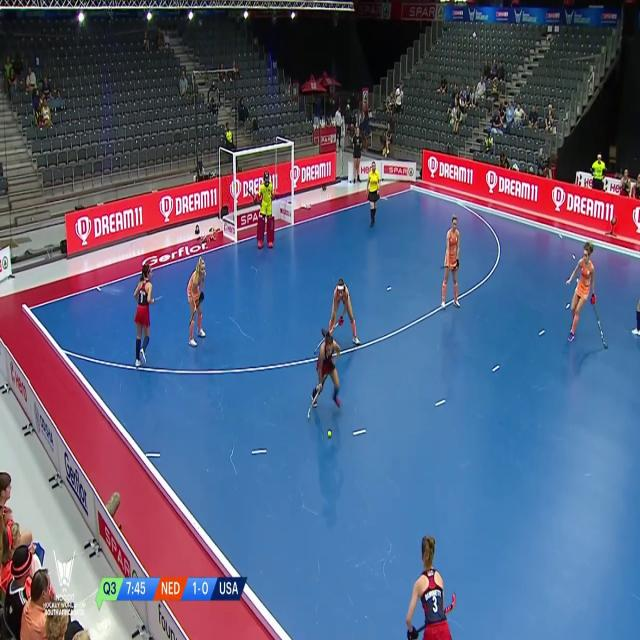ball: (322, 426, 335, 438)
